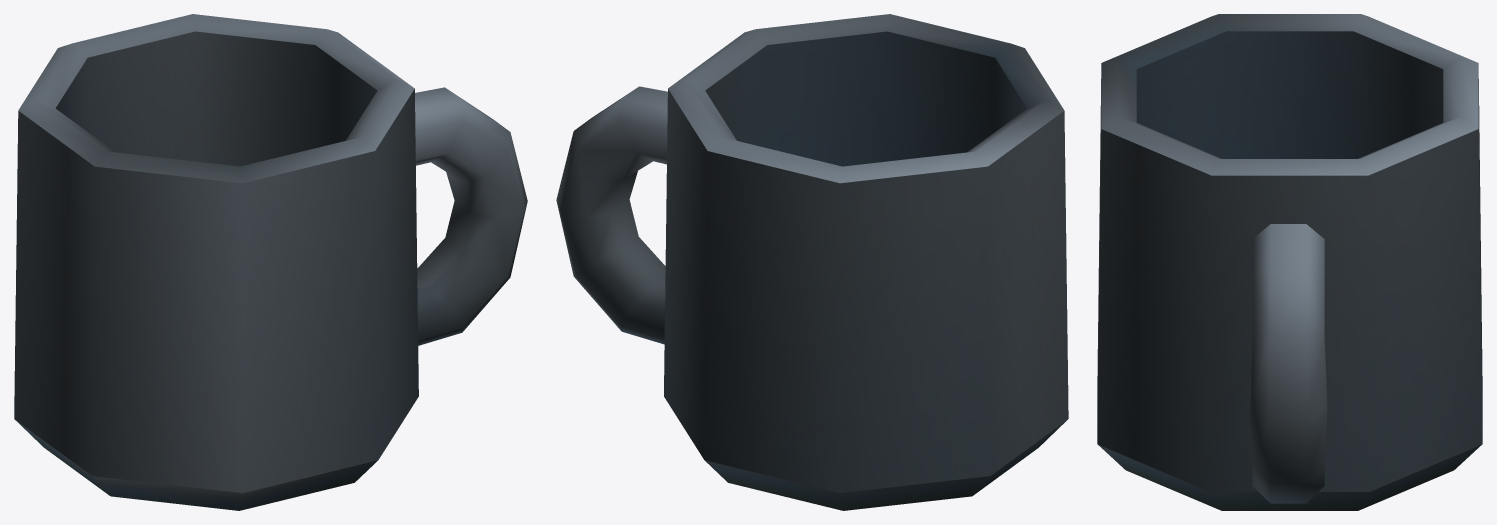
The model's file is cup.fbx.
3 views of the same model, side by side, from view 1: azimuth 30°, elevation 25°; view 2: azimuth 150°, elevation 25°; view 3: azimuth 270°, elevation 25° (orthographic). The views are drawn at different scales.
Visible parts, largest first — view 1: cup; view 2: cup; view 3: cup.
Boxes of the visible parts, left/top/right/bottom form: cup: left=14, top=14, right=527, bottom=510; cup: left=556, top=14, right=1068, bottom=510; cup: left=1097, top=14, right=1482, bottom=510.
Bounding box in the file's own units: 32.88 × 23.53 × 23.13.
